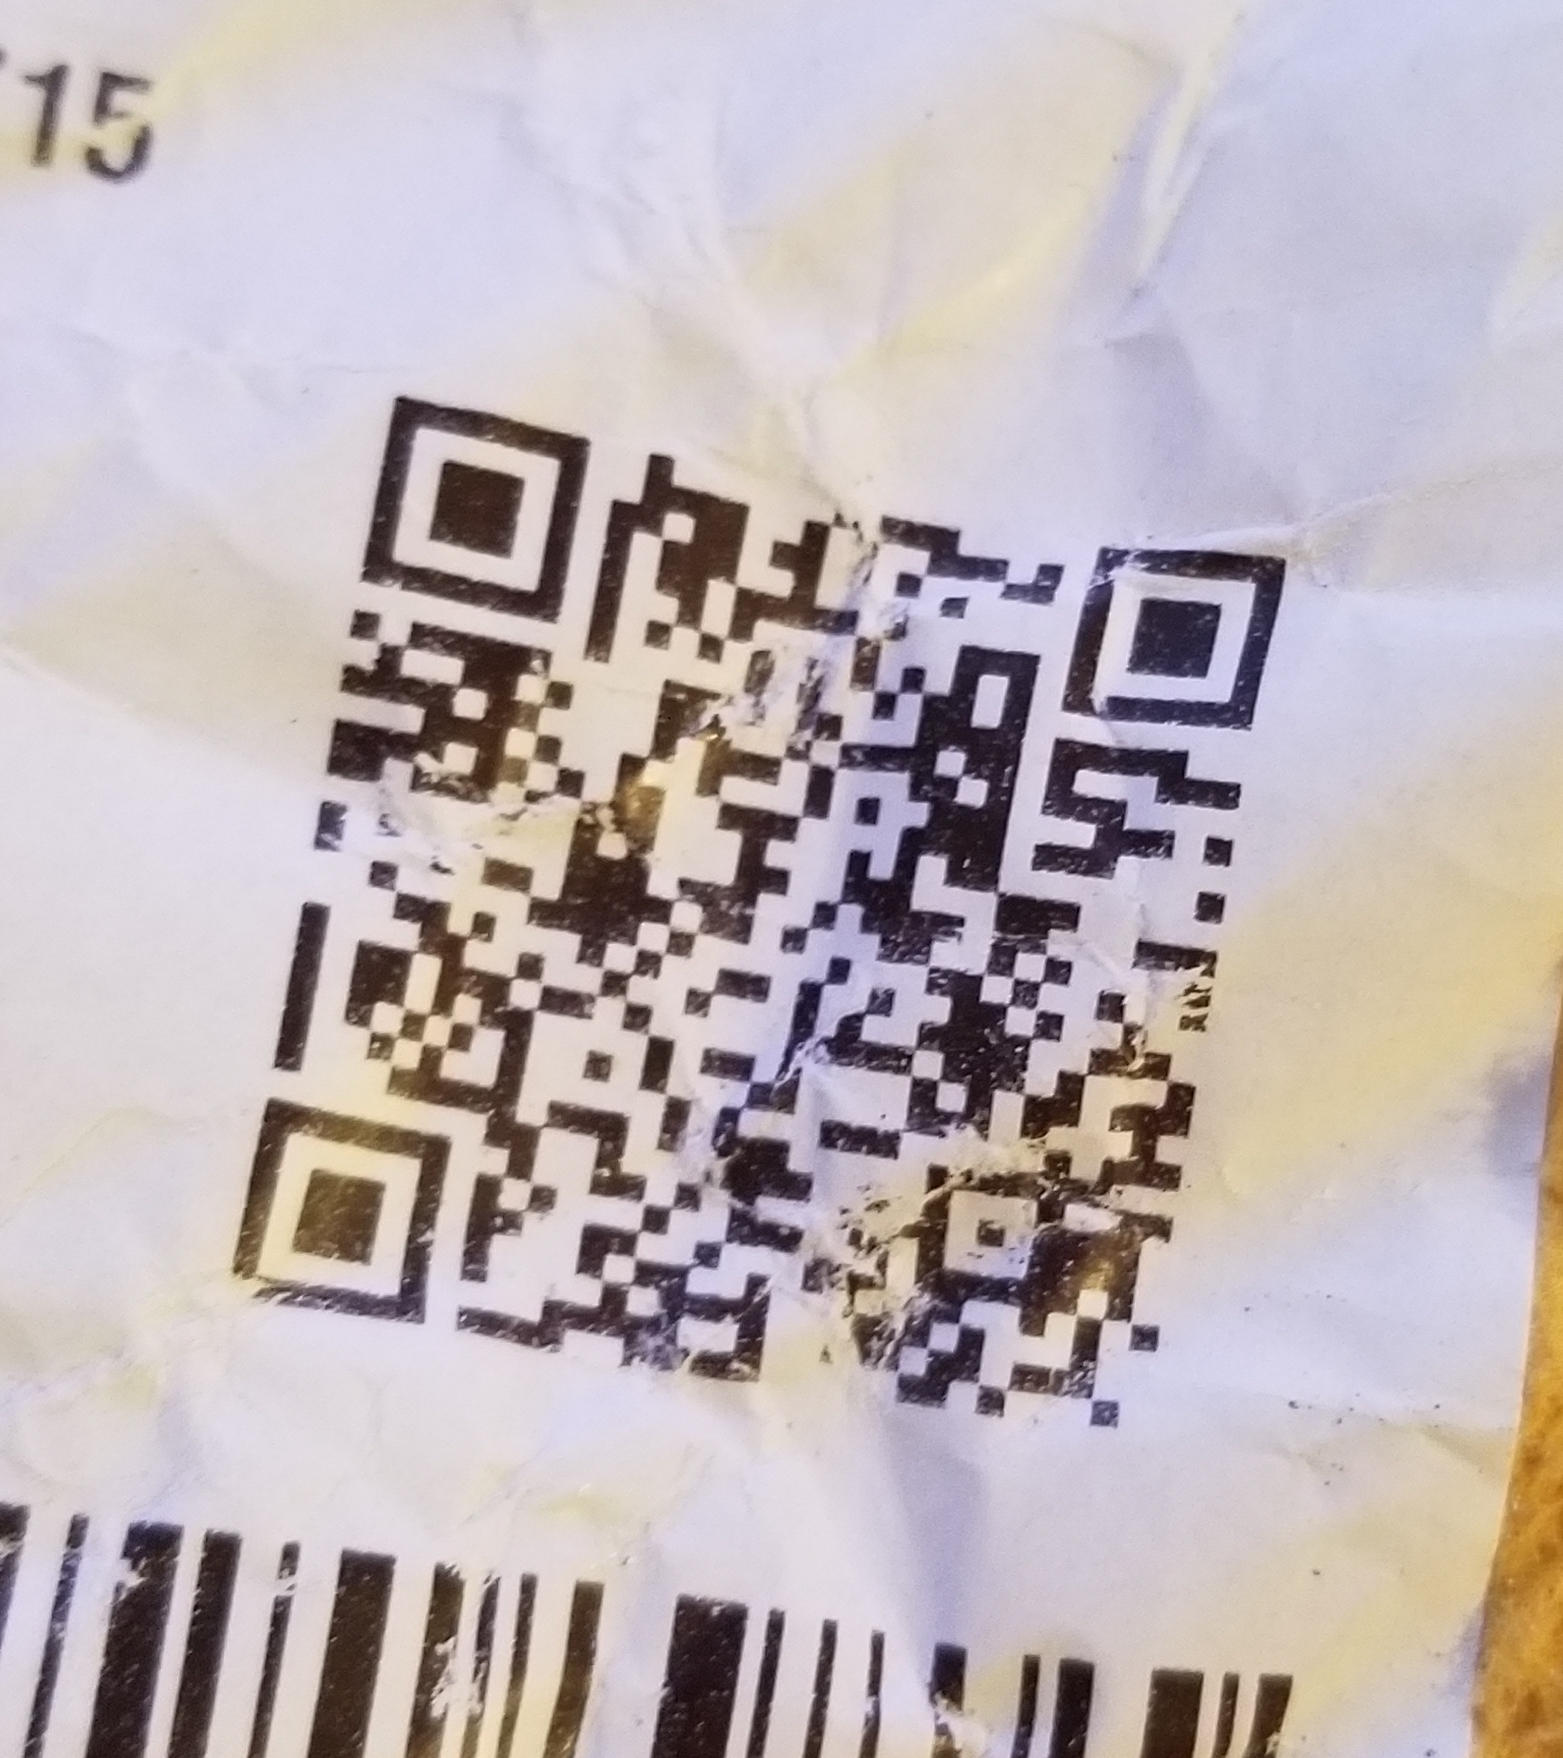QR_CODE: (207, 353, 1310, 1488)
